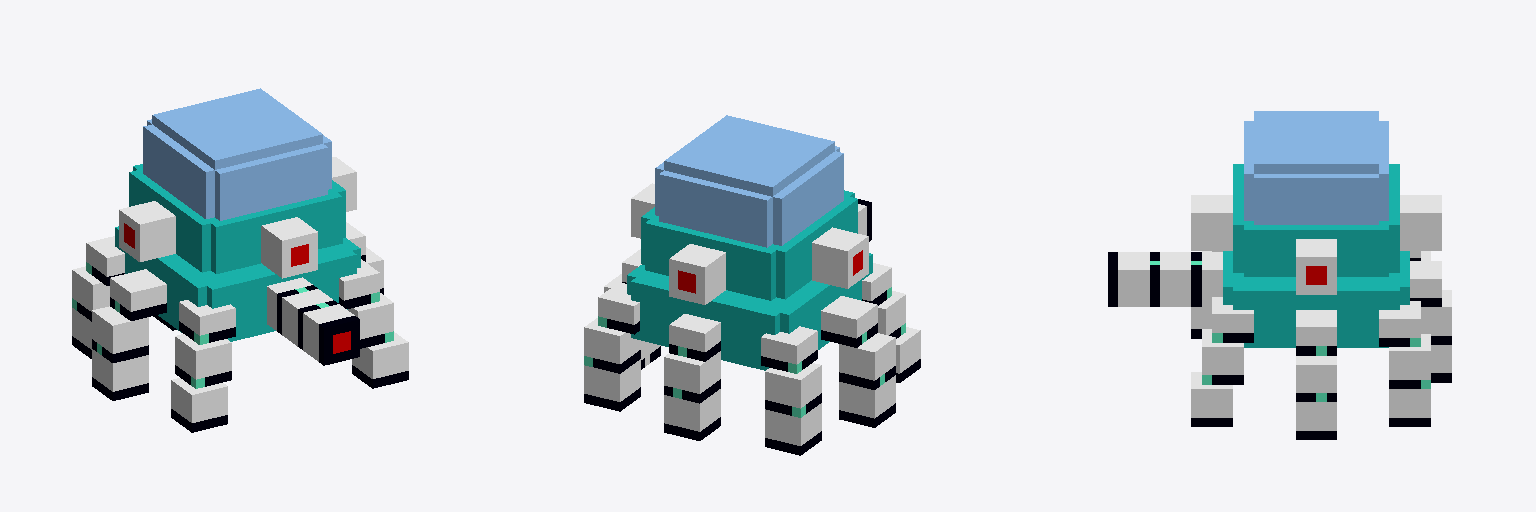
3 views of the same model, side by side, from view 1: azimuth 30°, elevation 25°; view 2: azimuth 150°, elevation 25°; view 3: azimuth 270°, elevation 25° (orthographic).
Parts seen in each view (by area): view 1: object 1; view 2: object 1; view 3: object 1.
Part boxes in pixels (x1,y1,x2,y2): object 1: (72,88,408,432); object 1: (584,115,920,455); object 1: (1108,111,1451,439).
Bounding box in the file's own units: 3 × 2.5 × 3.3.
Materials: 1 (1 with a texture image).